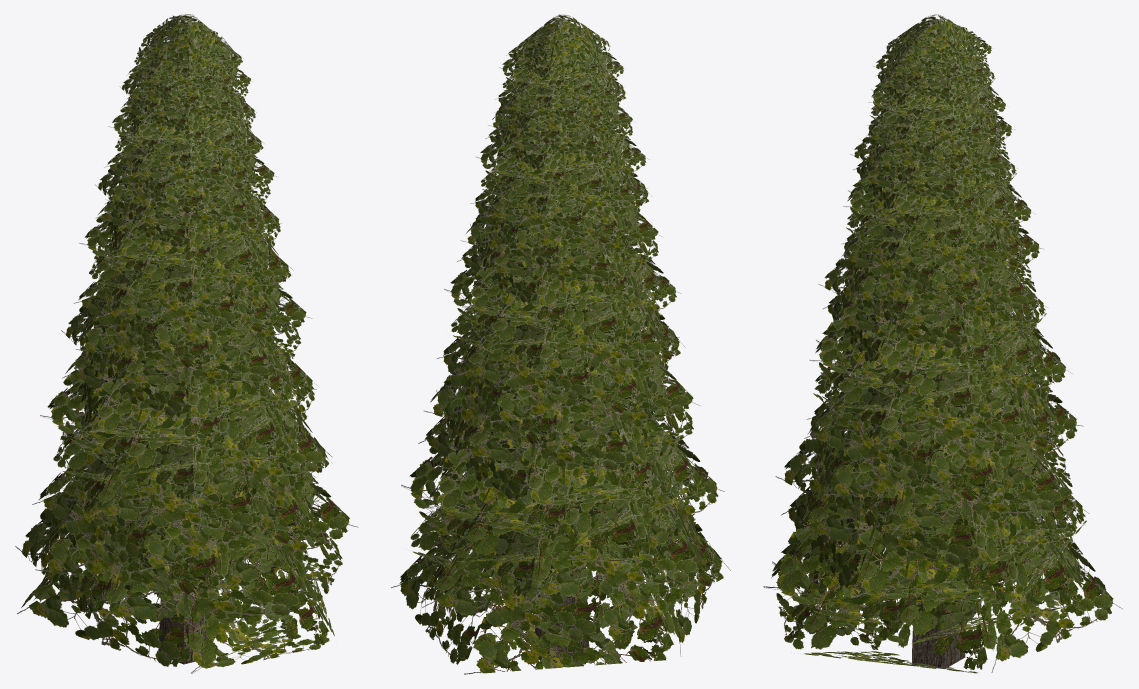
The model's file is tree.glb.
The picture shows the model from 3 angles, left to right: view 1: azimuth 30°, elevation 25°; view 2: azimuth 150°, elevation 25°; view 3: azimuth 270°, elevation 25°; orthographic projection.
Parts seen in each view (by area): view 1: tree; view 2: tree; view 3: tree.
Part boxes in pixels (left/top/right/bottom): tree: left=15, top=14, right=358, bottom=673; tree: left=391, top=14, right=730, bottom=674; tree: left=763, top=14, right=1122, bottom=673.
Size of the model in its own units: 5.81 by 12 by 6.16.
2 materials, 2 textured.
